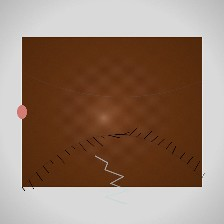foreign_body_visible: (103, 115, 144, 148)
